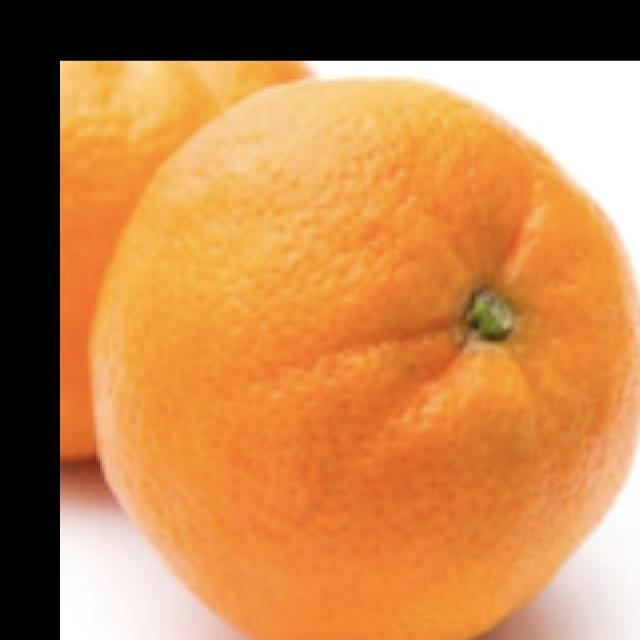Orange: (87, 75, 639, 639), (59, 59, 314, 464)
